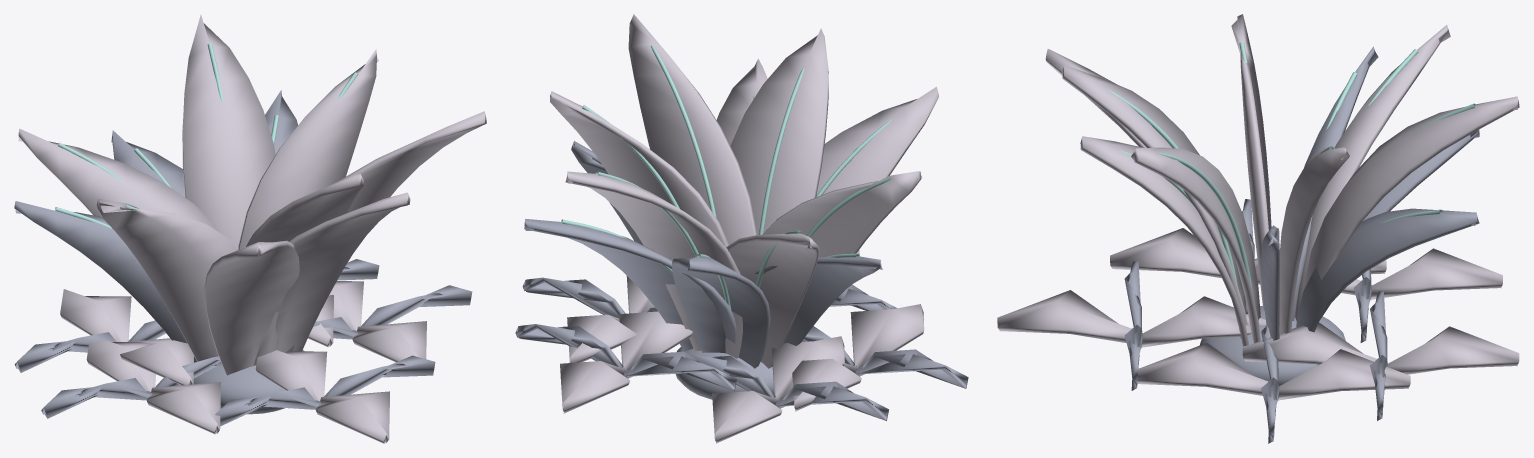
Rendered from bio_mist_leaf_25_near.glb.
3 renders of one model, left to right at view 1: azimuth 30°, elevation 25°; view 2: azimuth 150°, elevation 25°; view 3: azimuth 270°, elevation 25°, orthographic. The views are drawn at different scales.
Visible parts, largest first — view 1: Cupped condensate leaf.011, Cupped condensate leaf.004, Cupped condensate leaf.008, Cupped condensate leaf.007, Cupped condensate leaf.010, Cupped condensate leaf.001, Cupped condensate leaf.009, Low buttress leaf.009, Low buttress leaf.005, Low buttress leaf.017, Cupped condensate leaf.002, Cupped condensate leaf.005 (+10 smaller); view 2: Cupped condensate leaf.002, Cupped condensate leaf.005, Cupped condensate leaf.011, Cupped condensate leaf.006, Cupped condensate leaf.004, Cupped condensate leaf.008, Cupped condensate leaf.007, Cupped condensate leaf.001, Cupped condensate leaf.003, Low buttress leaf.013, Low buttress leaf.017, Low buttress leaf.005 (+14 smaller); view 3: Cupped condensate leaf.011, Low buttress leaf.001, Low buttress leaf.009, Cupped condensate leaf.003, Low buttress leaf.013, Cupped condensate leaf.005, Cupped condensate leaf.001, Cupped condensate leaf.002, Cupped condensate leaf.010, Cupped condensate leaf.008, Cupped condensate leaf.004, Low buttress leaf.005 (+12 smaller).
Boxes of the visible parts, <box> form: Cupped condensate leaf.011: <box>182,14,275,248</box>; Cupped condensate leaf.004: <box>96,198,237,372</box>; Cupped condensate leaf.008: <box>238,49,378,249</box>; Cupped condensate leaf.007: <box>204,240,299,375</box>; Cupped condensate leaf.010: <box>275,192,410,352</box>; Cupped condensate leaf.001: <box>18,128,217,231</box>; Cupped condensate leaf.009: <box>14,201,196,362</box>; Low buttress leaf.009: <box>255,350,389,443</box>; Low buttress leaf.005: <box>60,289,193,385</box>; Low buttress leaf.017: <box>86,335,220,434</box>; Cupped condensate leaf.002: <box>246,174,363,365</box>; Cupped condensate leaf.005: <box>302,111,486,350</box>; Cupped condensate leaf.002: <box>730,28,828,235</box>; Cupped condensate leaf.005: <box>628,14,757,244</box>; Cupped condensate leaf.011: <box>565,171,742,358</box>; Cupped condensate leaf.006: <box>672,256,770,368</box>; Cupped condensate leaf.004: <box>762,171,922,257</box>; Cupped condensate leaf.008: <box>550,91,728,246</box>; Cupped condensate leaf.007: <box>816,86,938,194</box>; Cupped condensate leaf.001: <box>726,233,819,368</box>; Cupped condensate leaf.003: <box>524,219,736,351</box>; Low buttress leaf.013: <box>560,311,692,413</box>; Low buttress leaf.017: <box>792,304,924,411</box>; Low buttress leaf.005: <box>712,336,844,443</box>; Cupped condensate leaf.011: <box>1303,96,1519,291</box>; Low buttress leaf.001: <box>1137,343,1410,401</box>; Low buttress leaf.009: <box>997,290,1266,348</box>; Cupped condensate leaf.003: <box>1296,208,1479,332</box>; Low buttress leaf.013: <box>1242,322,1519,374</box>; Cupped condensate leaf.005: <box>1131,147,1260,343</box>; Cupped condensate leaf.001: <box>1294,25,1450,320</box>; Cupped condensate leaf.002: <box>1062,65,1244,337</box>; Cupped condensate leaf.010: <box>1080,136,1248,346</box>; Cupped condensate leaf.008: <box>1279,147,1349,333</box>; Cupped condensate leaf.004: <box>1231,14,1271,311</box>; Low buttress leaf.005: <box>1254,248,1502,300</box>.
Bounding box in the file's own units: 2.22 × 1.42 × 2.1.
